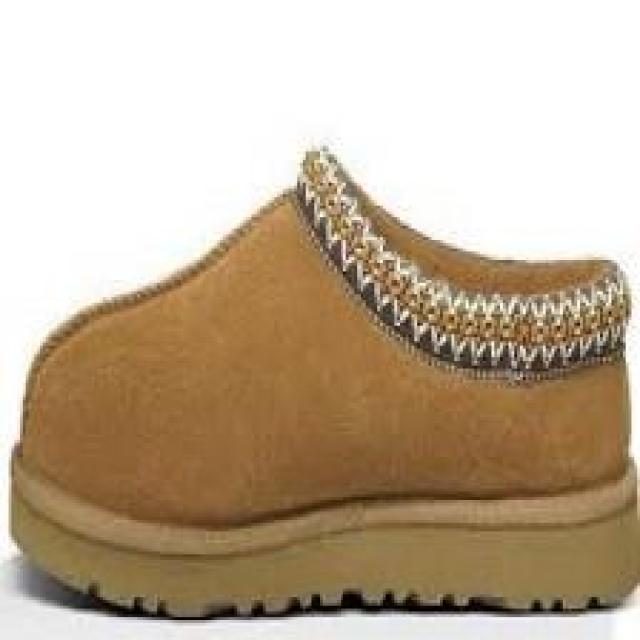shoe: (10, 151, 640, 615)
